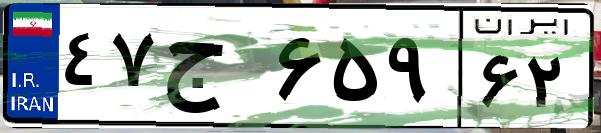2: (525, 38, 570, 115)
4: (57, 26, 110, 100)
5: (330, 28, 385, 110)
6: (270, 28, 330, 110), (475, 38, 525, 113)
7: (110, 28, 158, 98)
9: (385, 28, 445, 110)
ج: (158, 20, 270, 120)
